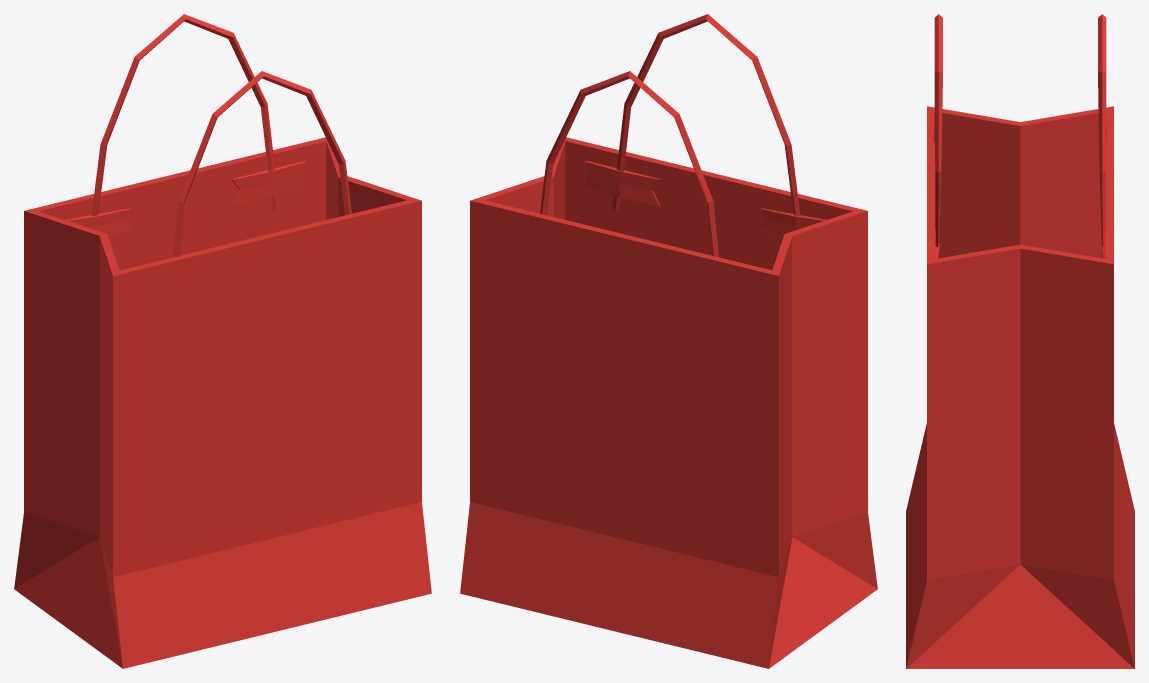
File: SM_Bag_Gift_Christmas_A.fbx
3 views of the same model, side by side, from view 1: azimuth 30°, elevation 25°; view 2: azimuth 150°, elevation 25°; view 3: azimuth 270°, elevation 25° (orthographic). The views are drawn at different scales.
Parts seen in each view (by area): view 1: bag-gift-christmas-a; view 2: bag-gift-christmas-a; view 3: bag-gift-christmas-a.
Part boxes in pixels (box(x1,y1,x2,y2)): bag-gift-christmas-a: box(14, 14, 431, 668); bag-gift-christmas-a: box(460, 14, 877, 668); bag-gift-christmas-a: box(906, 14, 1134, 668).
Bounding box in the file's own units: 0.2353 × 0.3997 × 0.1438.
